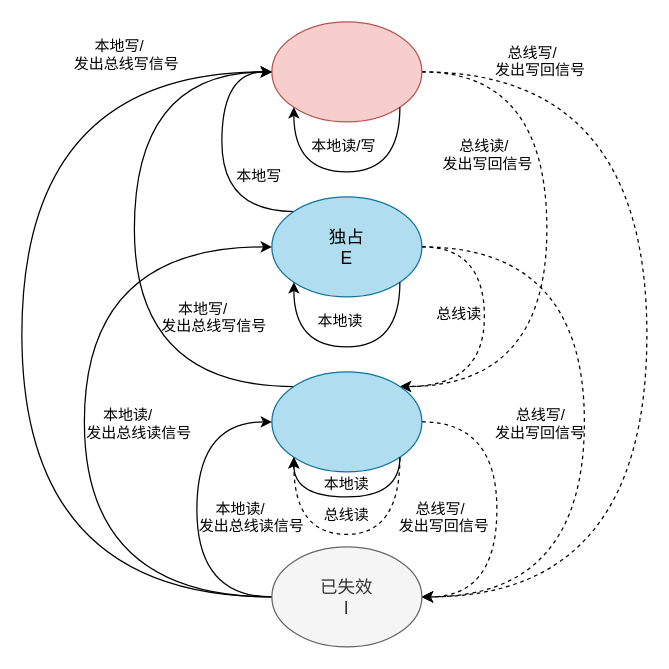
Image size: 669x669. Some labels were removed from this diagram. The shapes that lost their labels are listed below. From the top down, each one's centre as x and y in pixels, then its label:
the point at 346,71: 已修改 M
the point at 346,421: 共享 S
